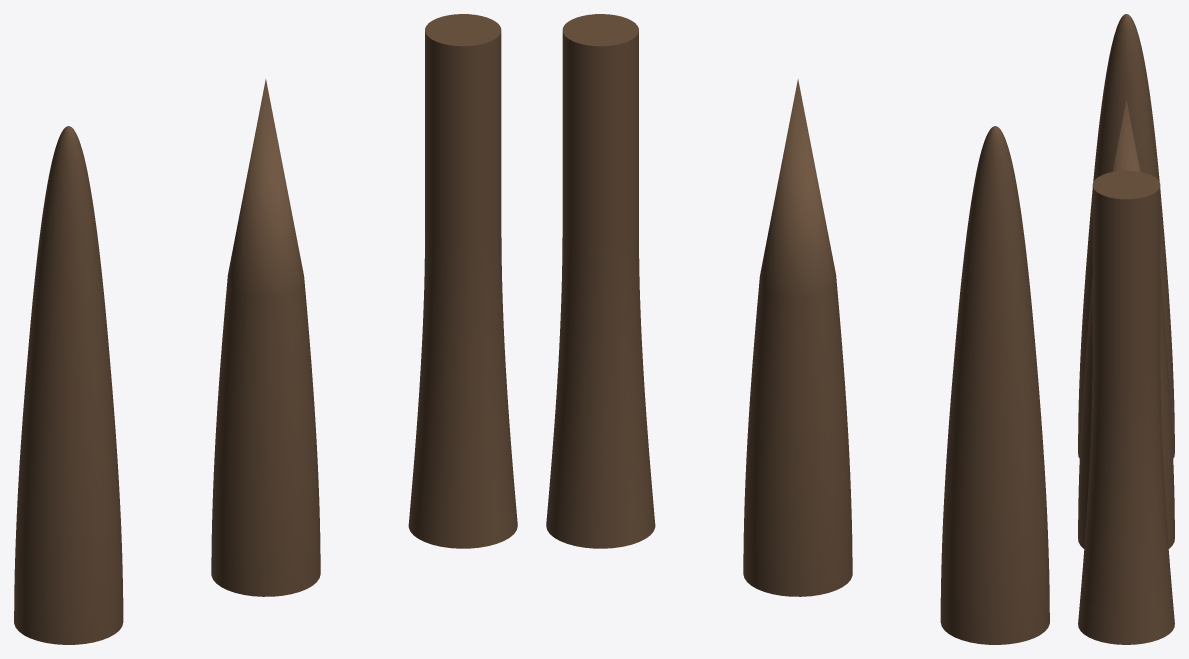
File: solids_tip.glb
The picture shows the model from 3 angles, left to right: view 1: azimuth 30°, elevation 25°; view 2: azimuth 150°, elevation 25°; view 3: azimuth 270°, elevation 25°; orthographic projection. The views are drawn at different scales.
Parts seen in each view (by area): view 1: thorn; view 2: thorn; view 3: thorn.
Part boxes in pixels (bbox=[...]): thorn: bbox=[14, 14, 517, 644]; thorn: bbox=[546, 14, 1049, 644]; thorn: bbox=[1078, 14, 1174, 644].
Bounding box in the file's own units: 0.124 × 0.12 × 0.024.
